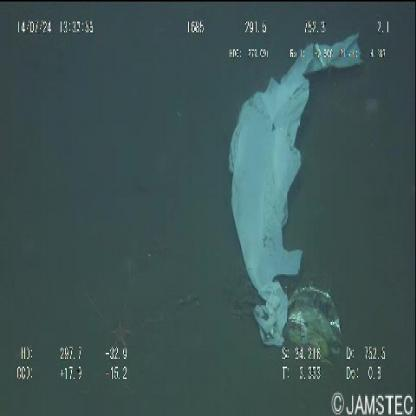Rác: (228, 31, 362, 349)
